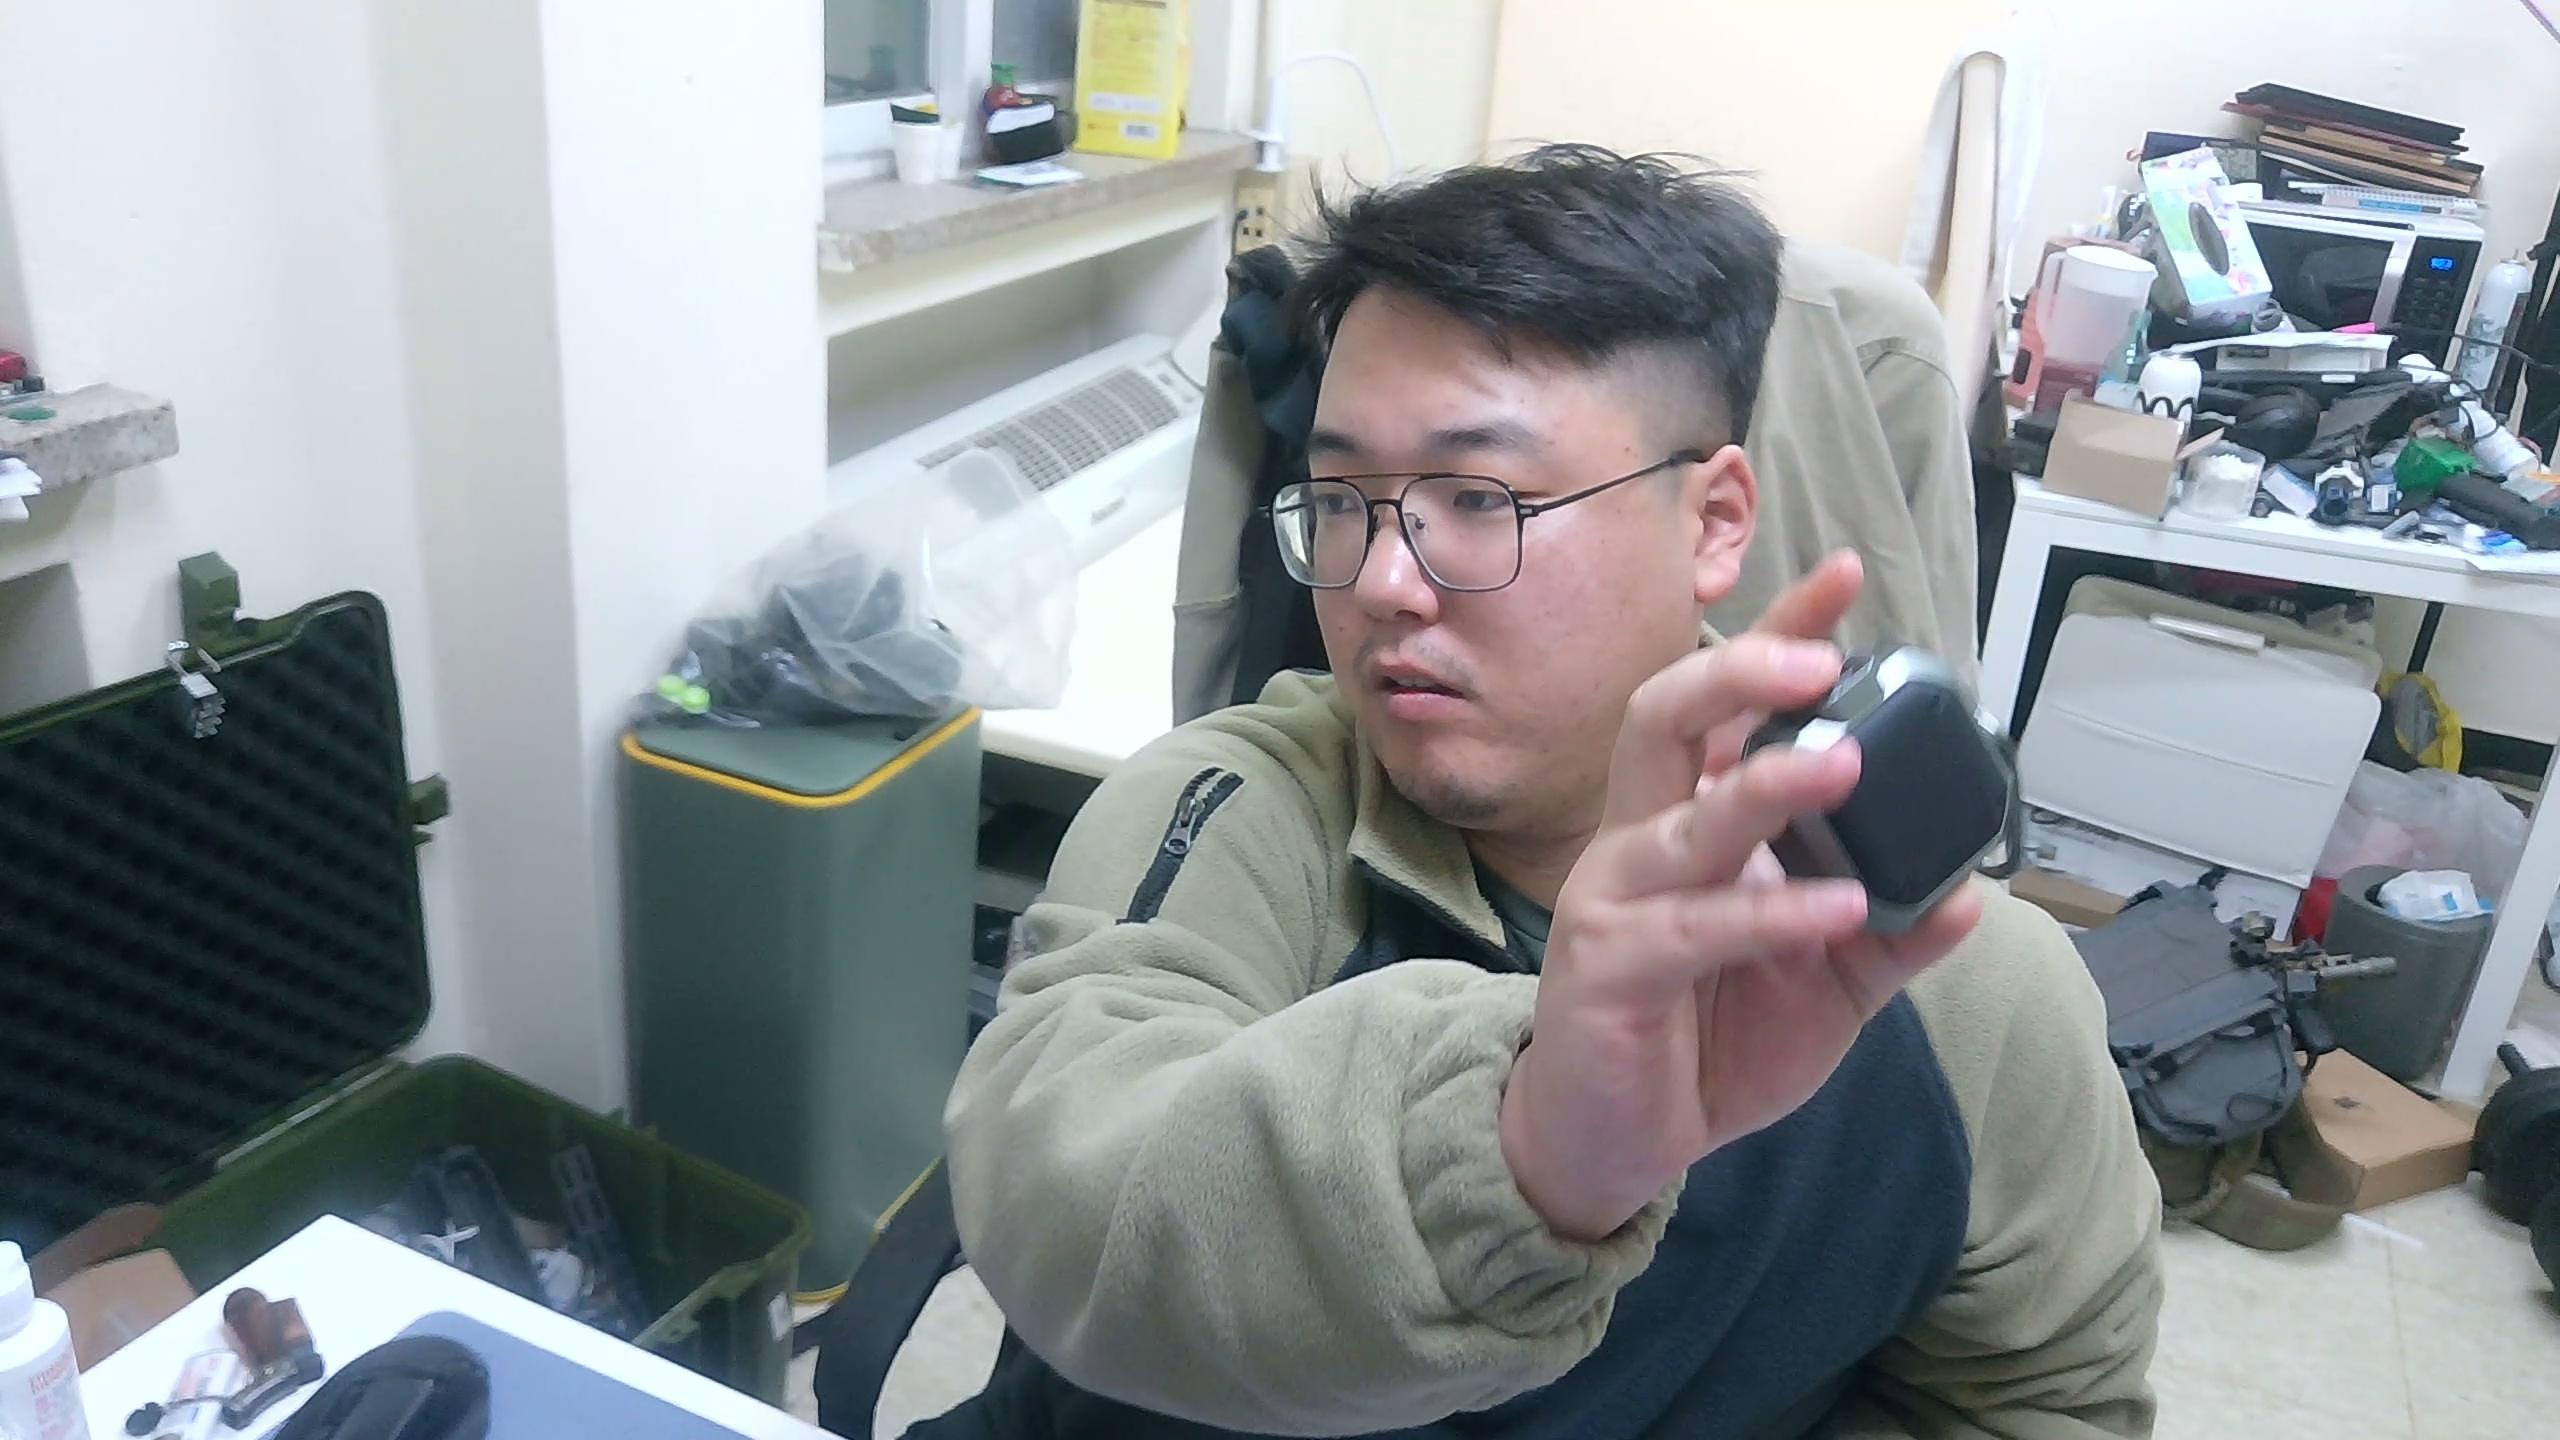blue_pliers: (1742, 642, 2022, 939)
